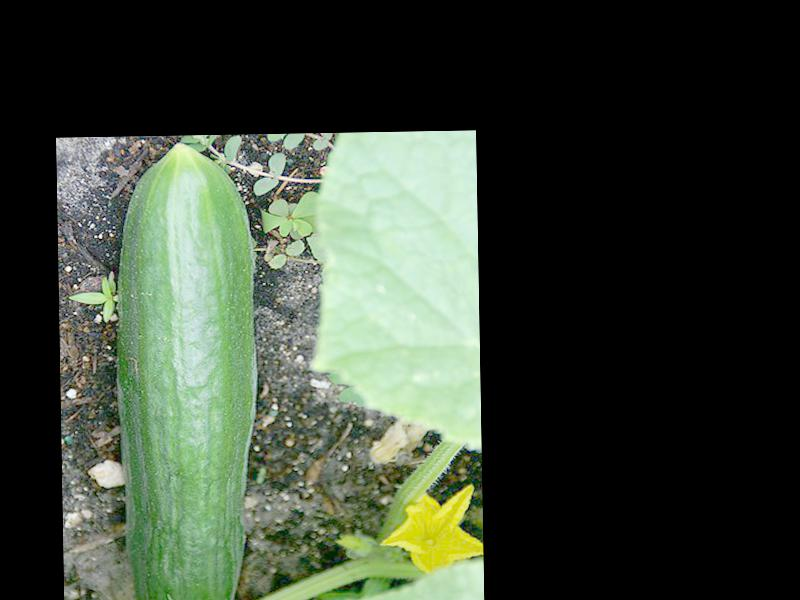Cucumber: (112, 140, 261, 600)
